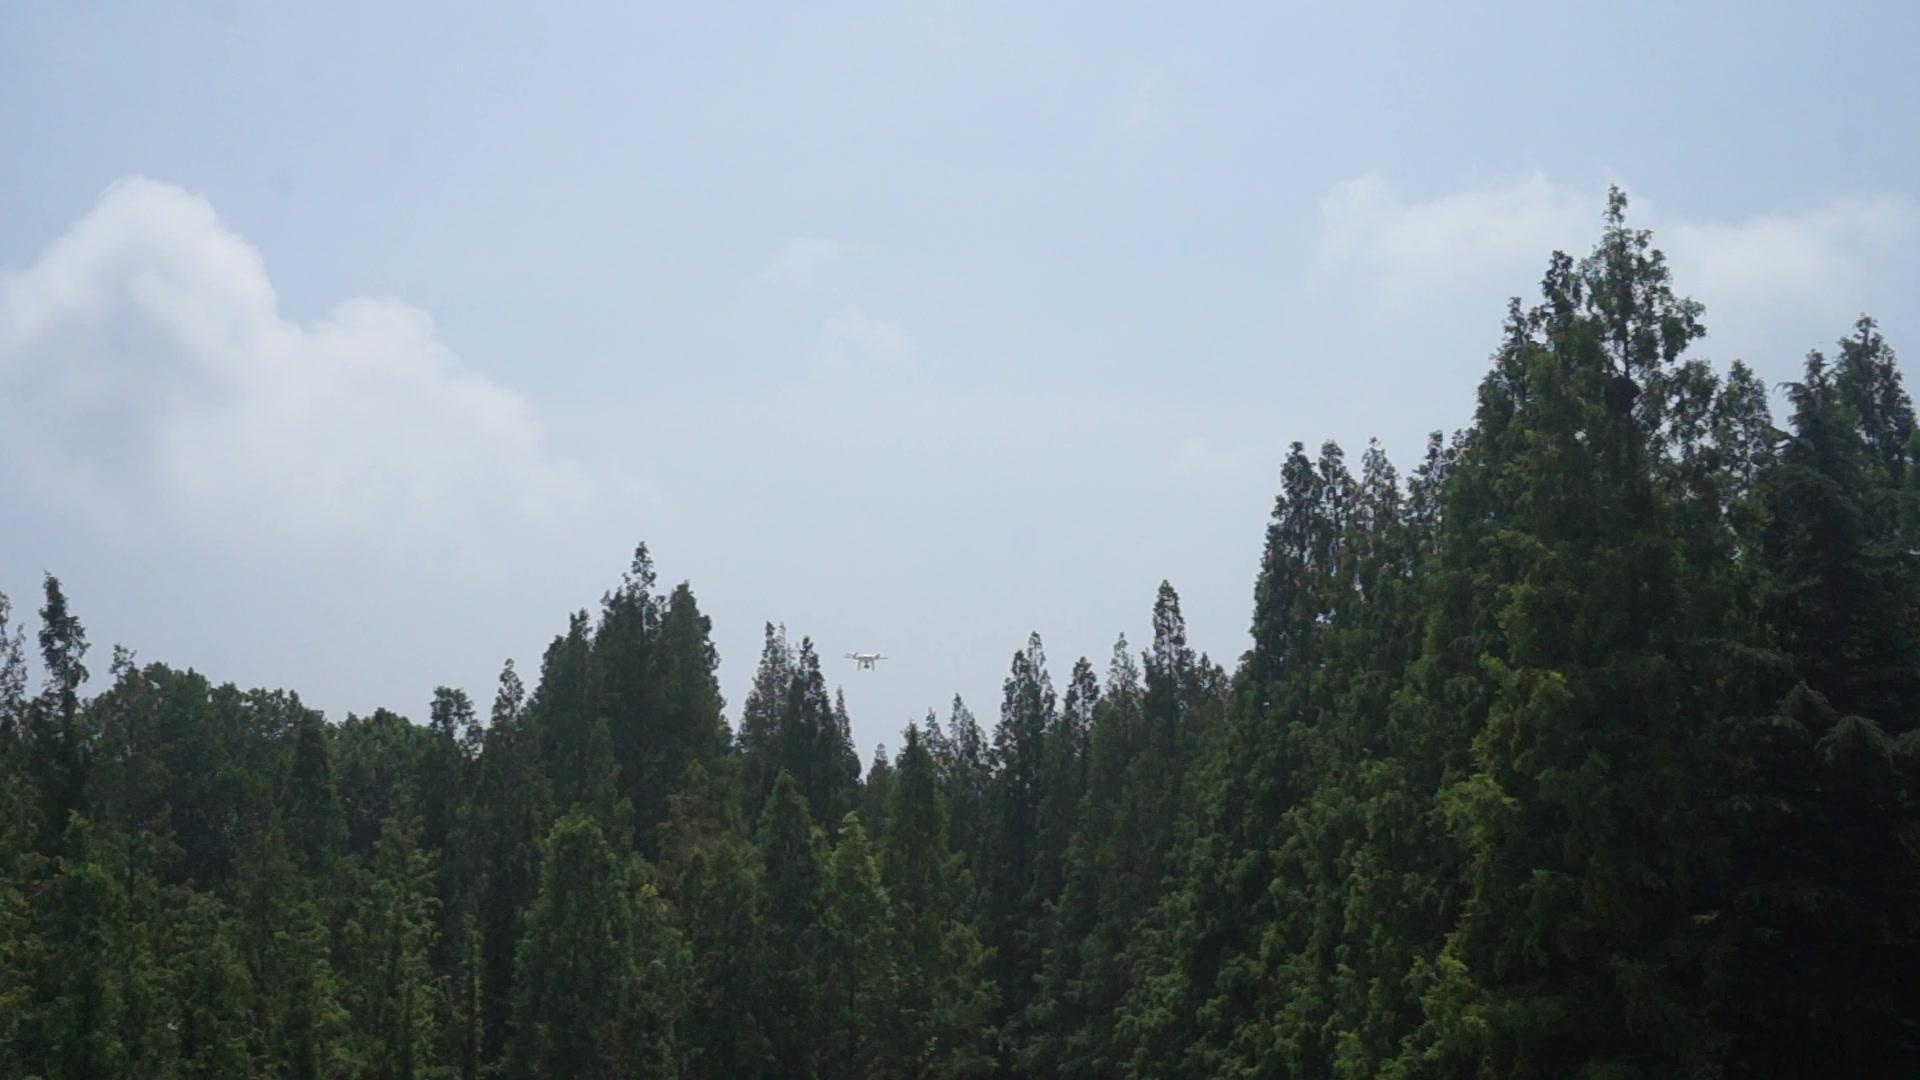UAV: (843, 651, 890, 673)
